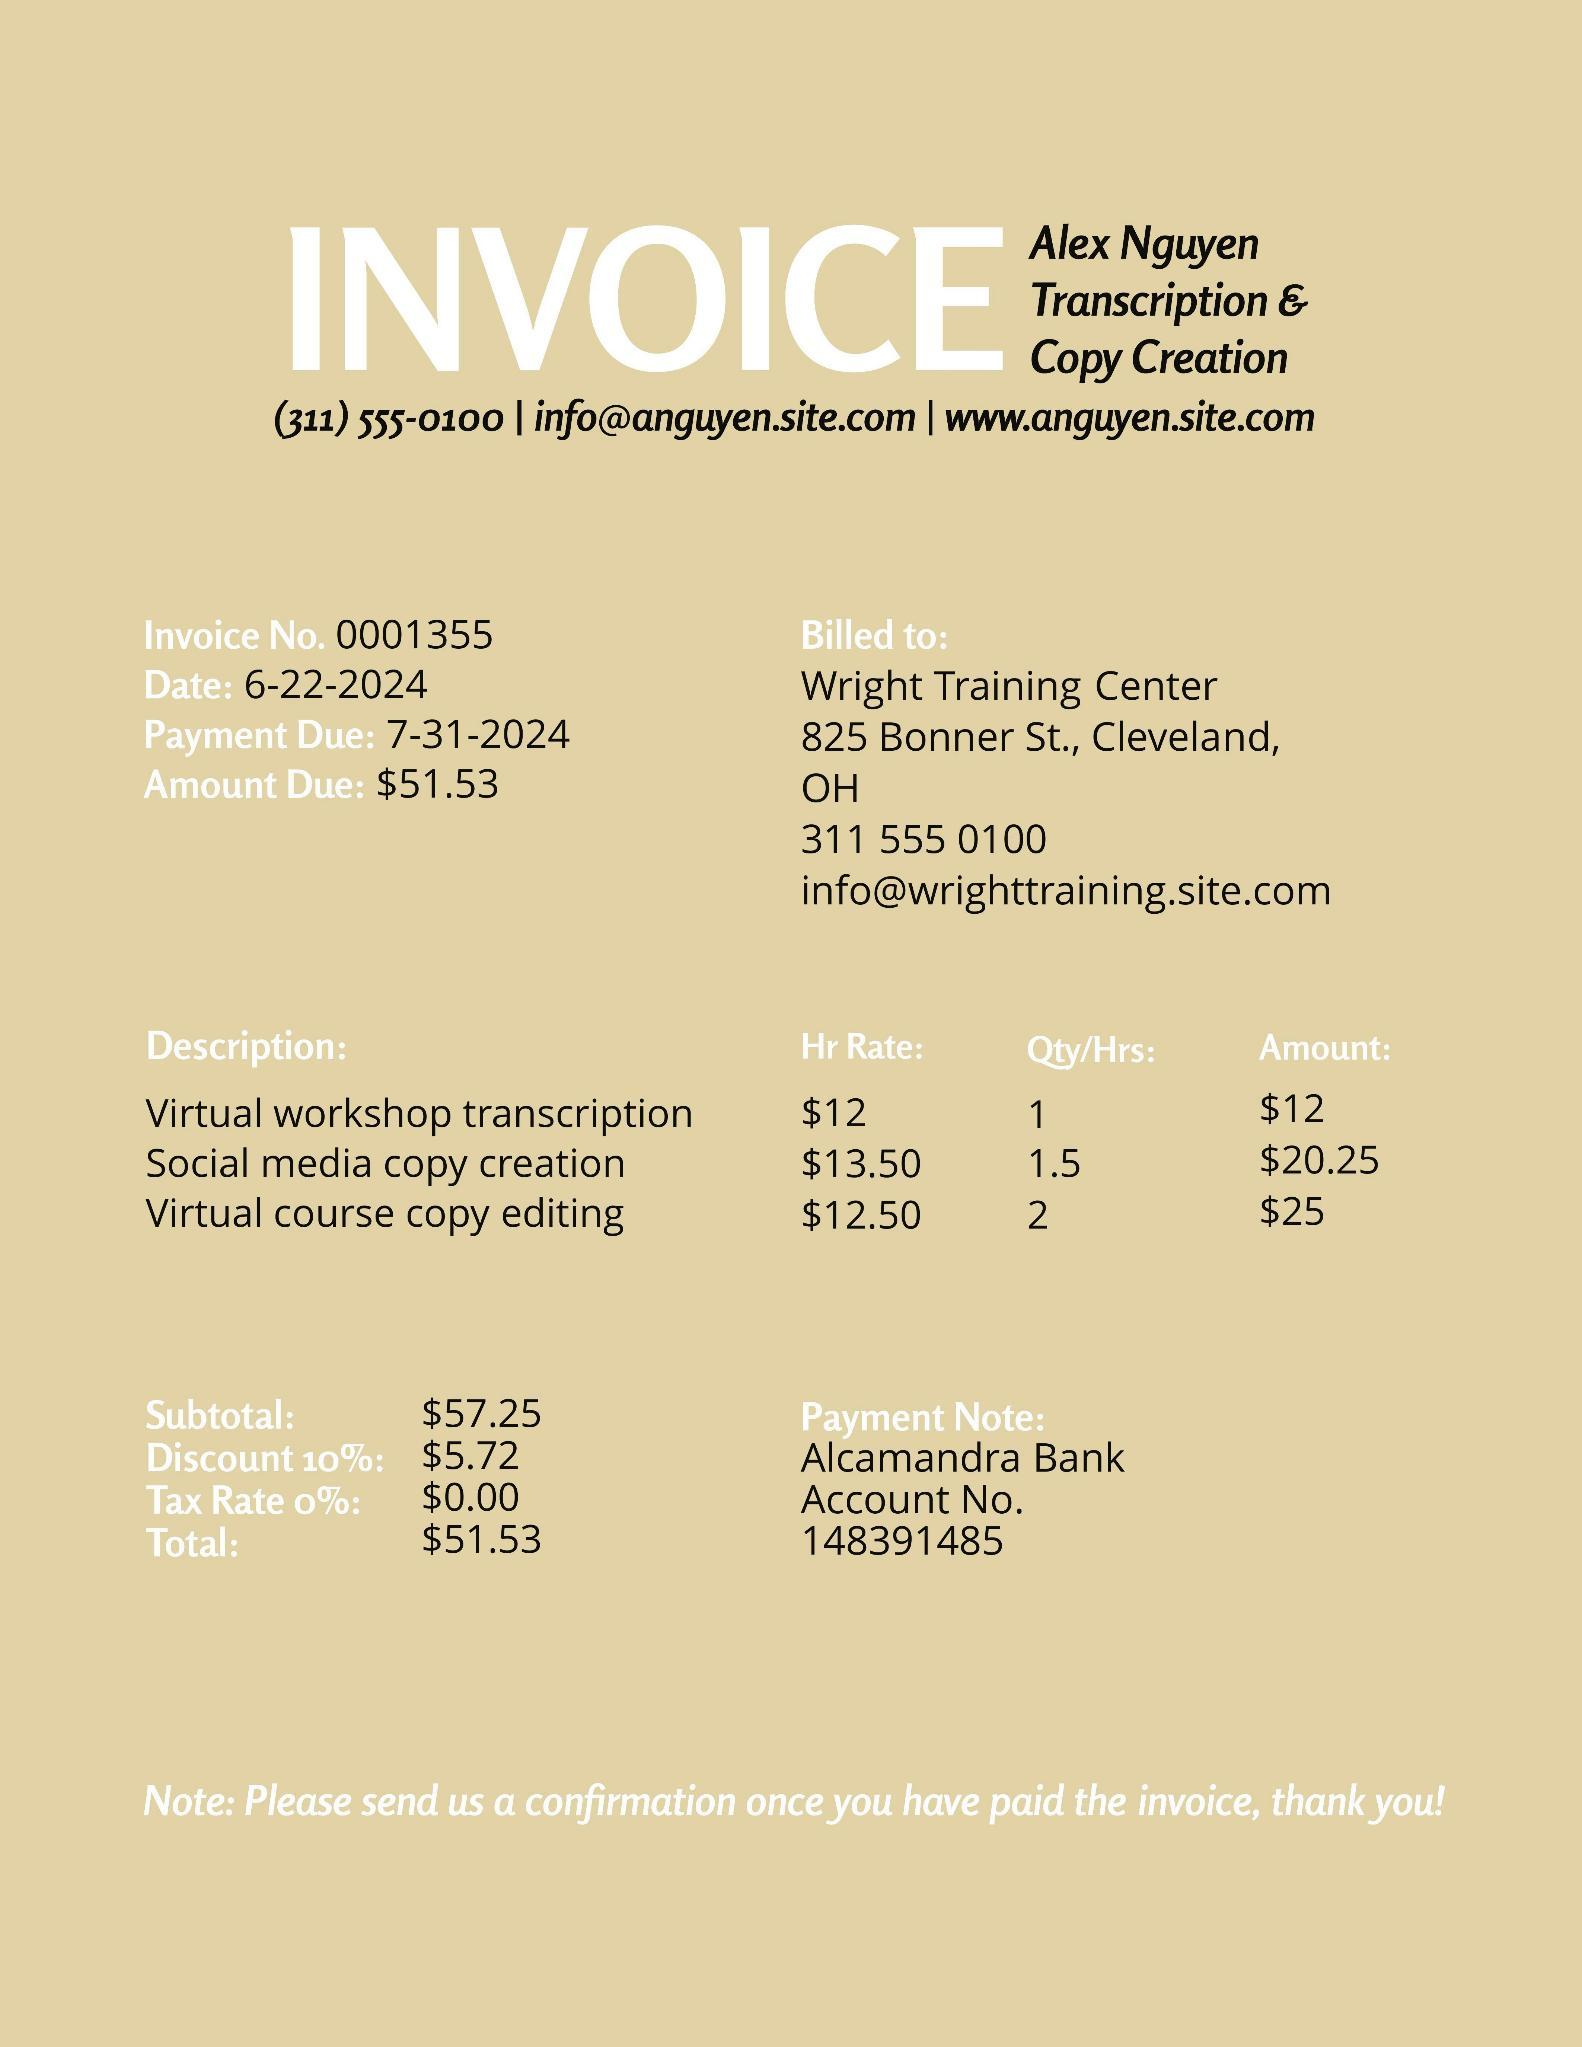ROI: (127, 1026, 1405, 1259), (773, 612, 1350, 919), (260, 212, 1020, 383), (135, 611, 584, 829), (135, 1773, 1452, 1835), (144, 1393, 561, 1560), (262, 394, 1338, 454), (791, 1391, 1136, 1568), (1030, 227, 1327, 394)
